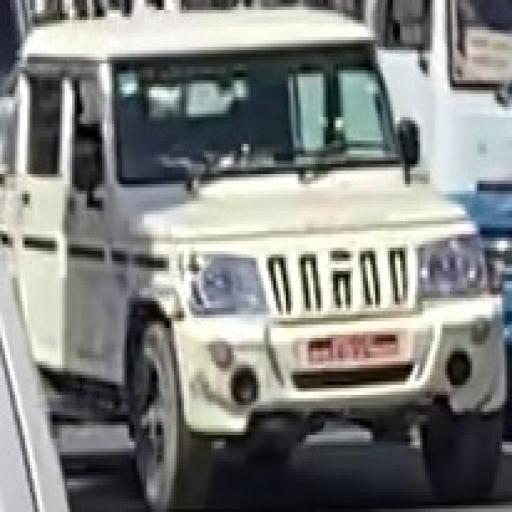license_plate: (301, 334, 405, 366)
